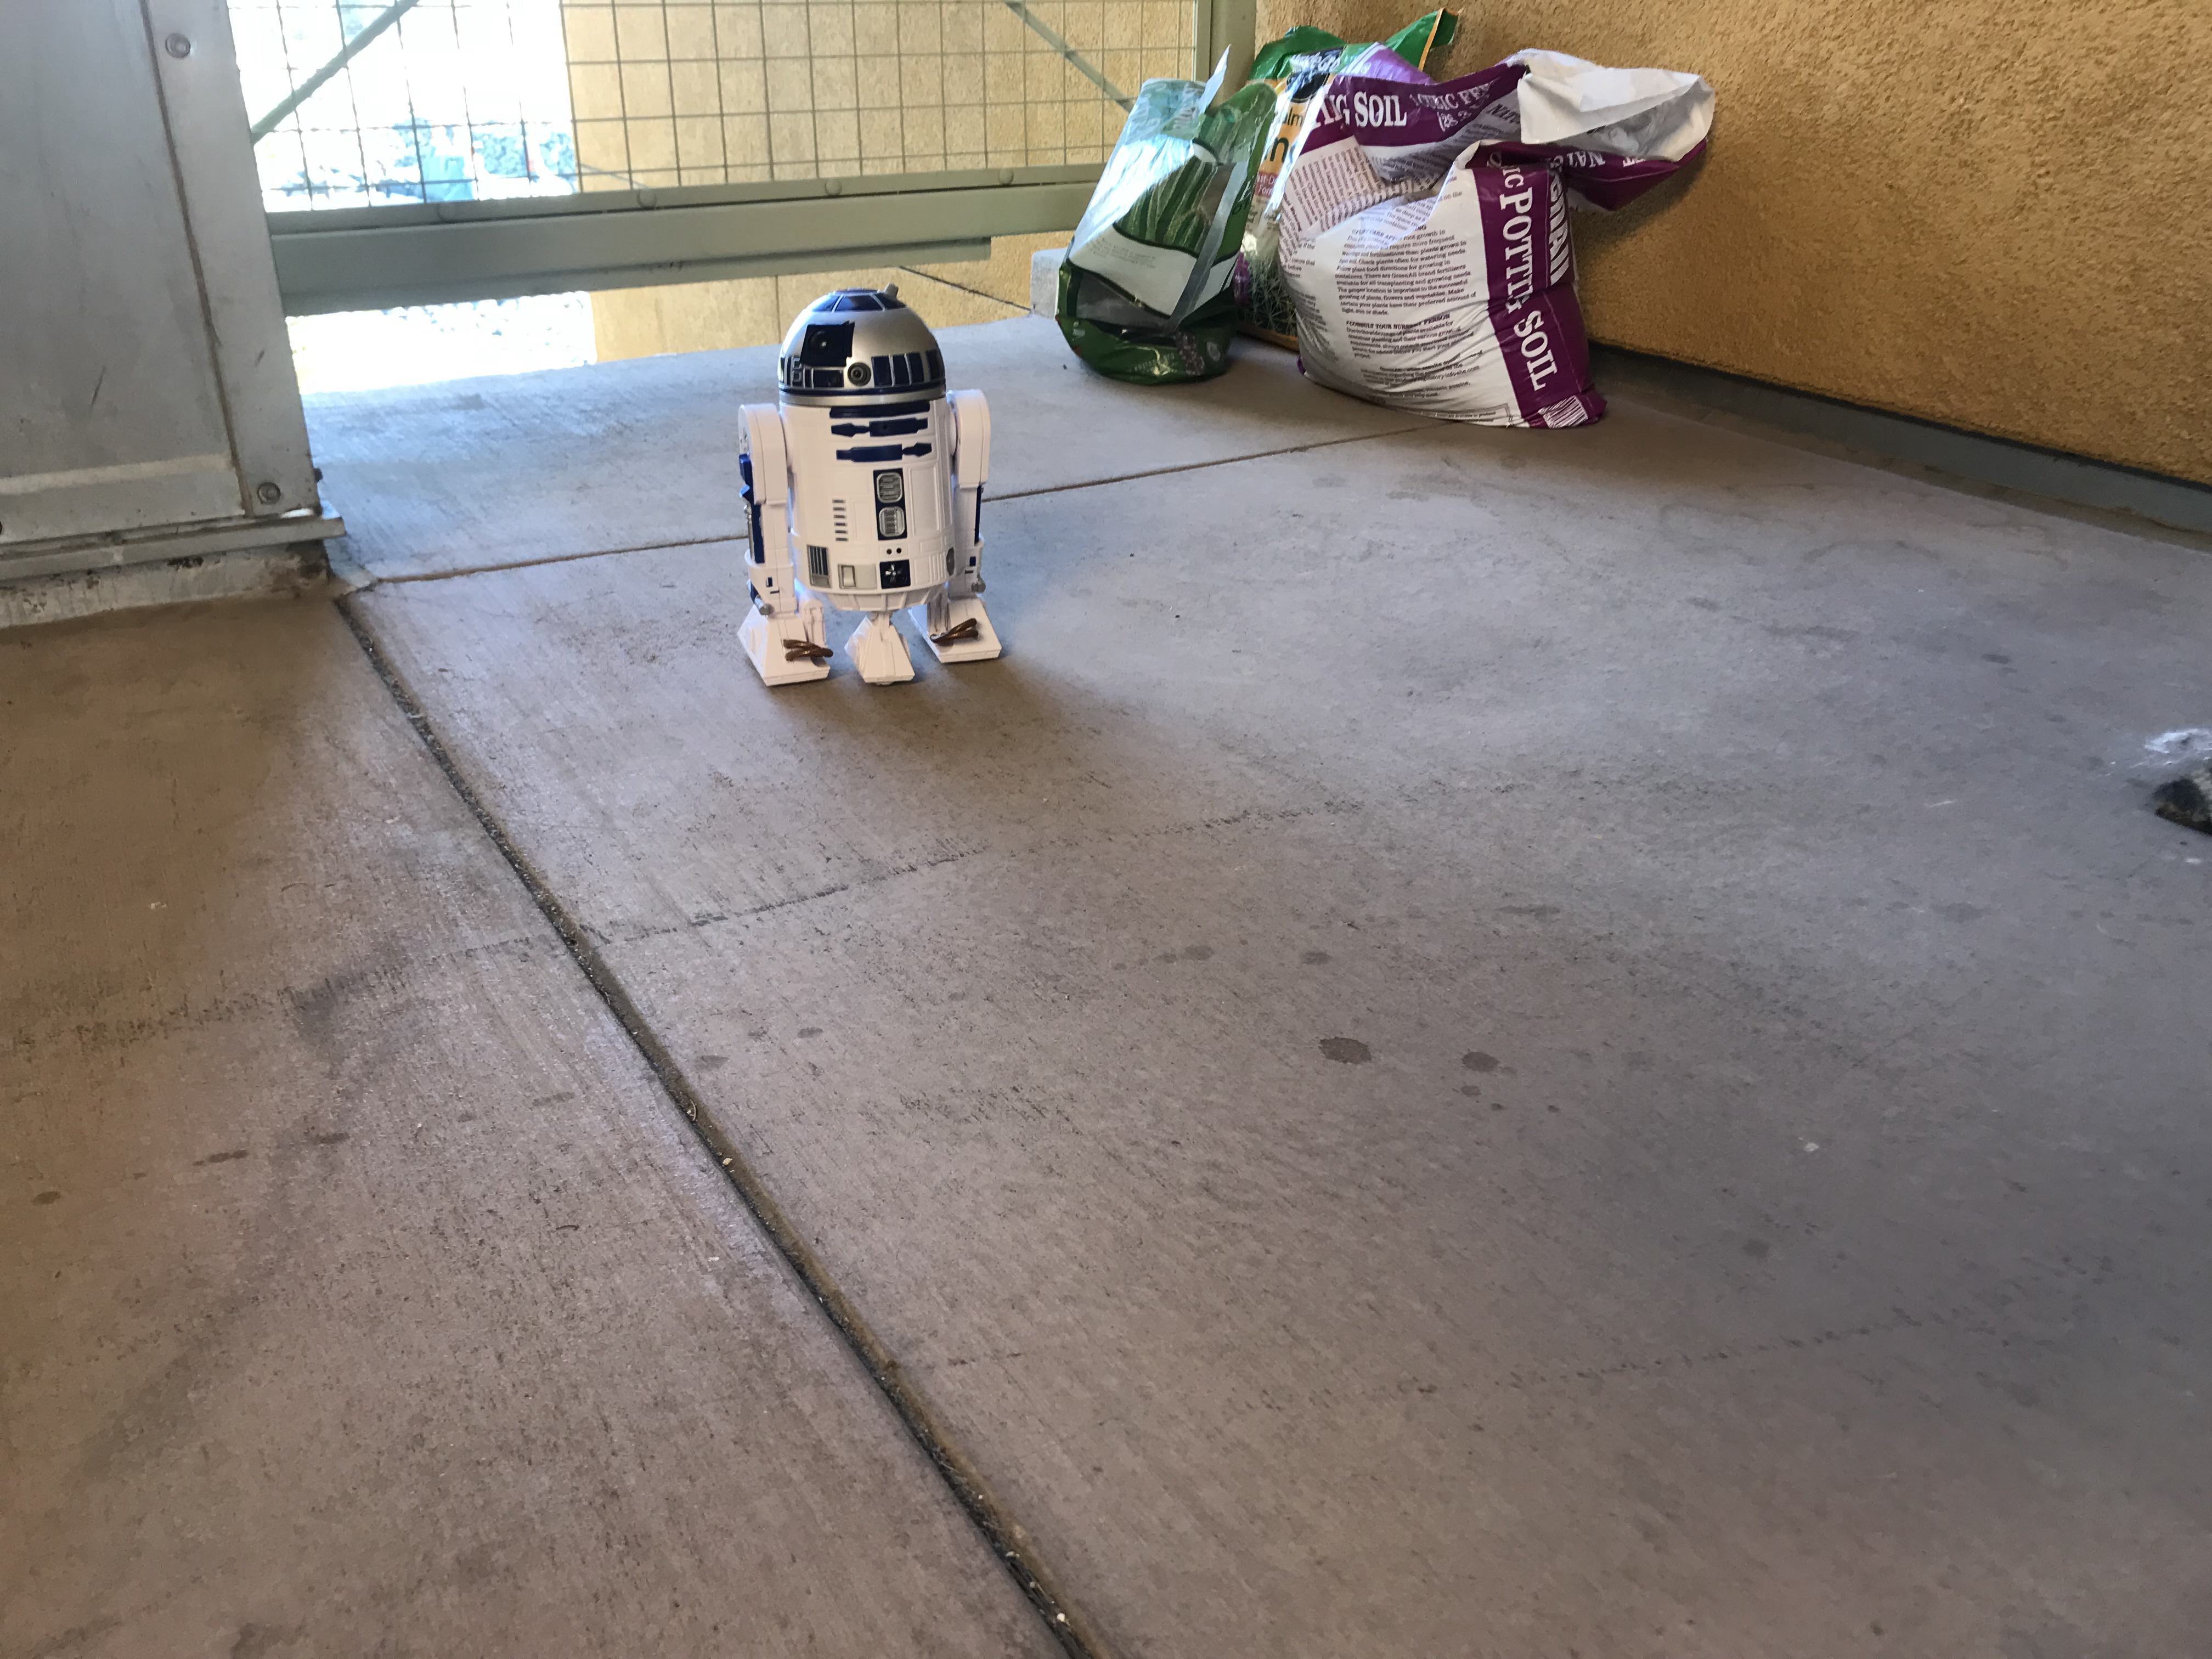r2d2: (737, 286, 1005, 697)
